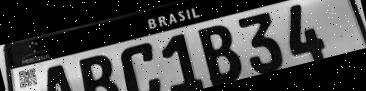placa_mercosul: (4, 0, 366, 91)
